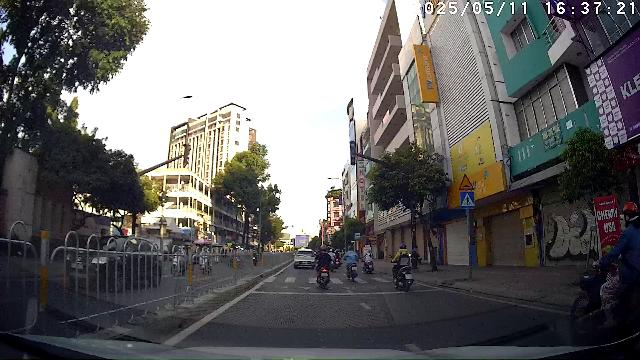423a-duong-nguoi-di-bo-sang-ngang-1: (460, 191, 475, 209)
